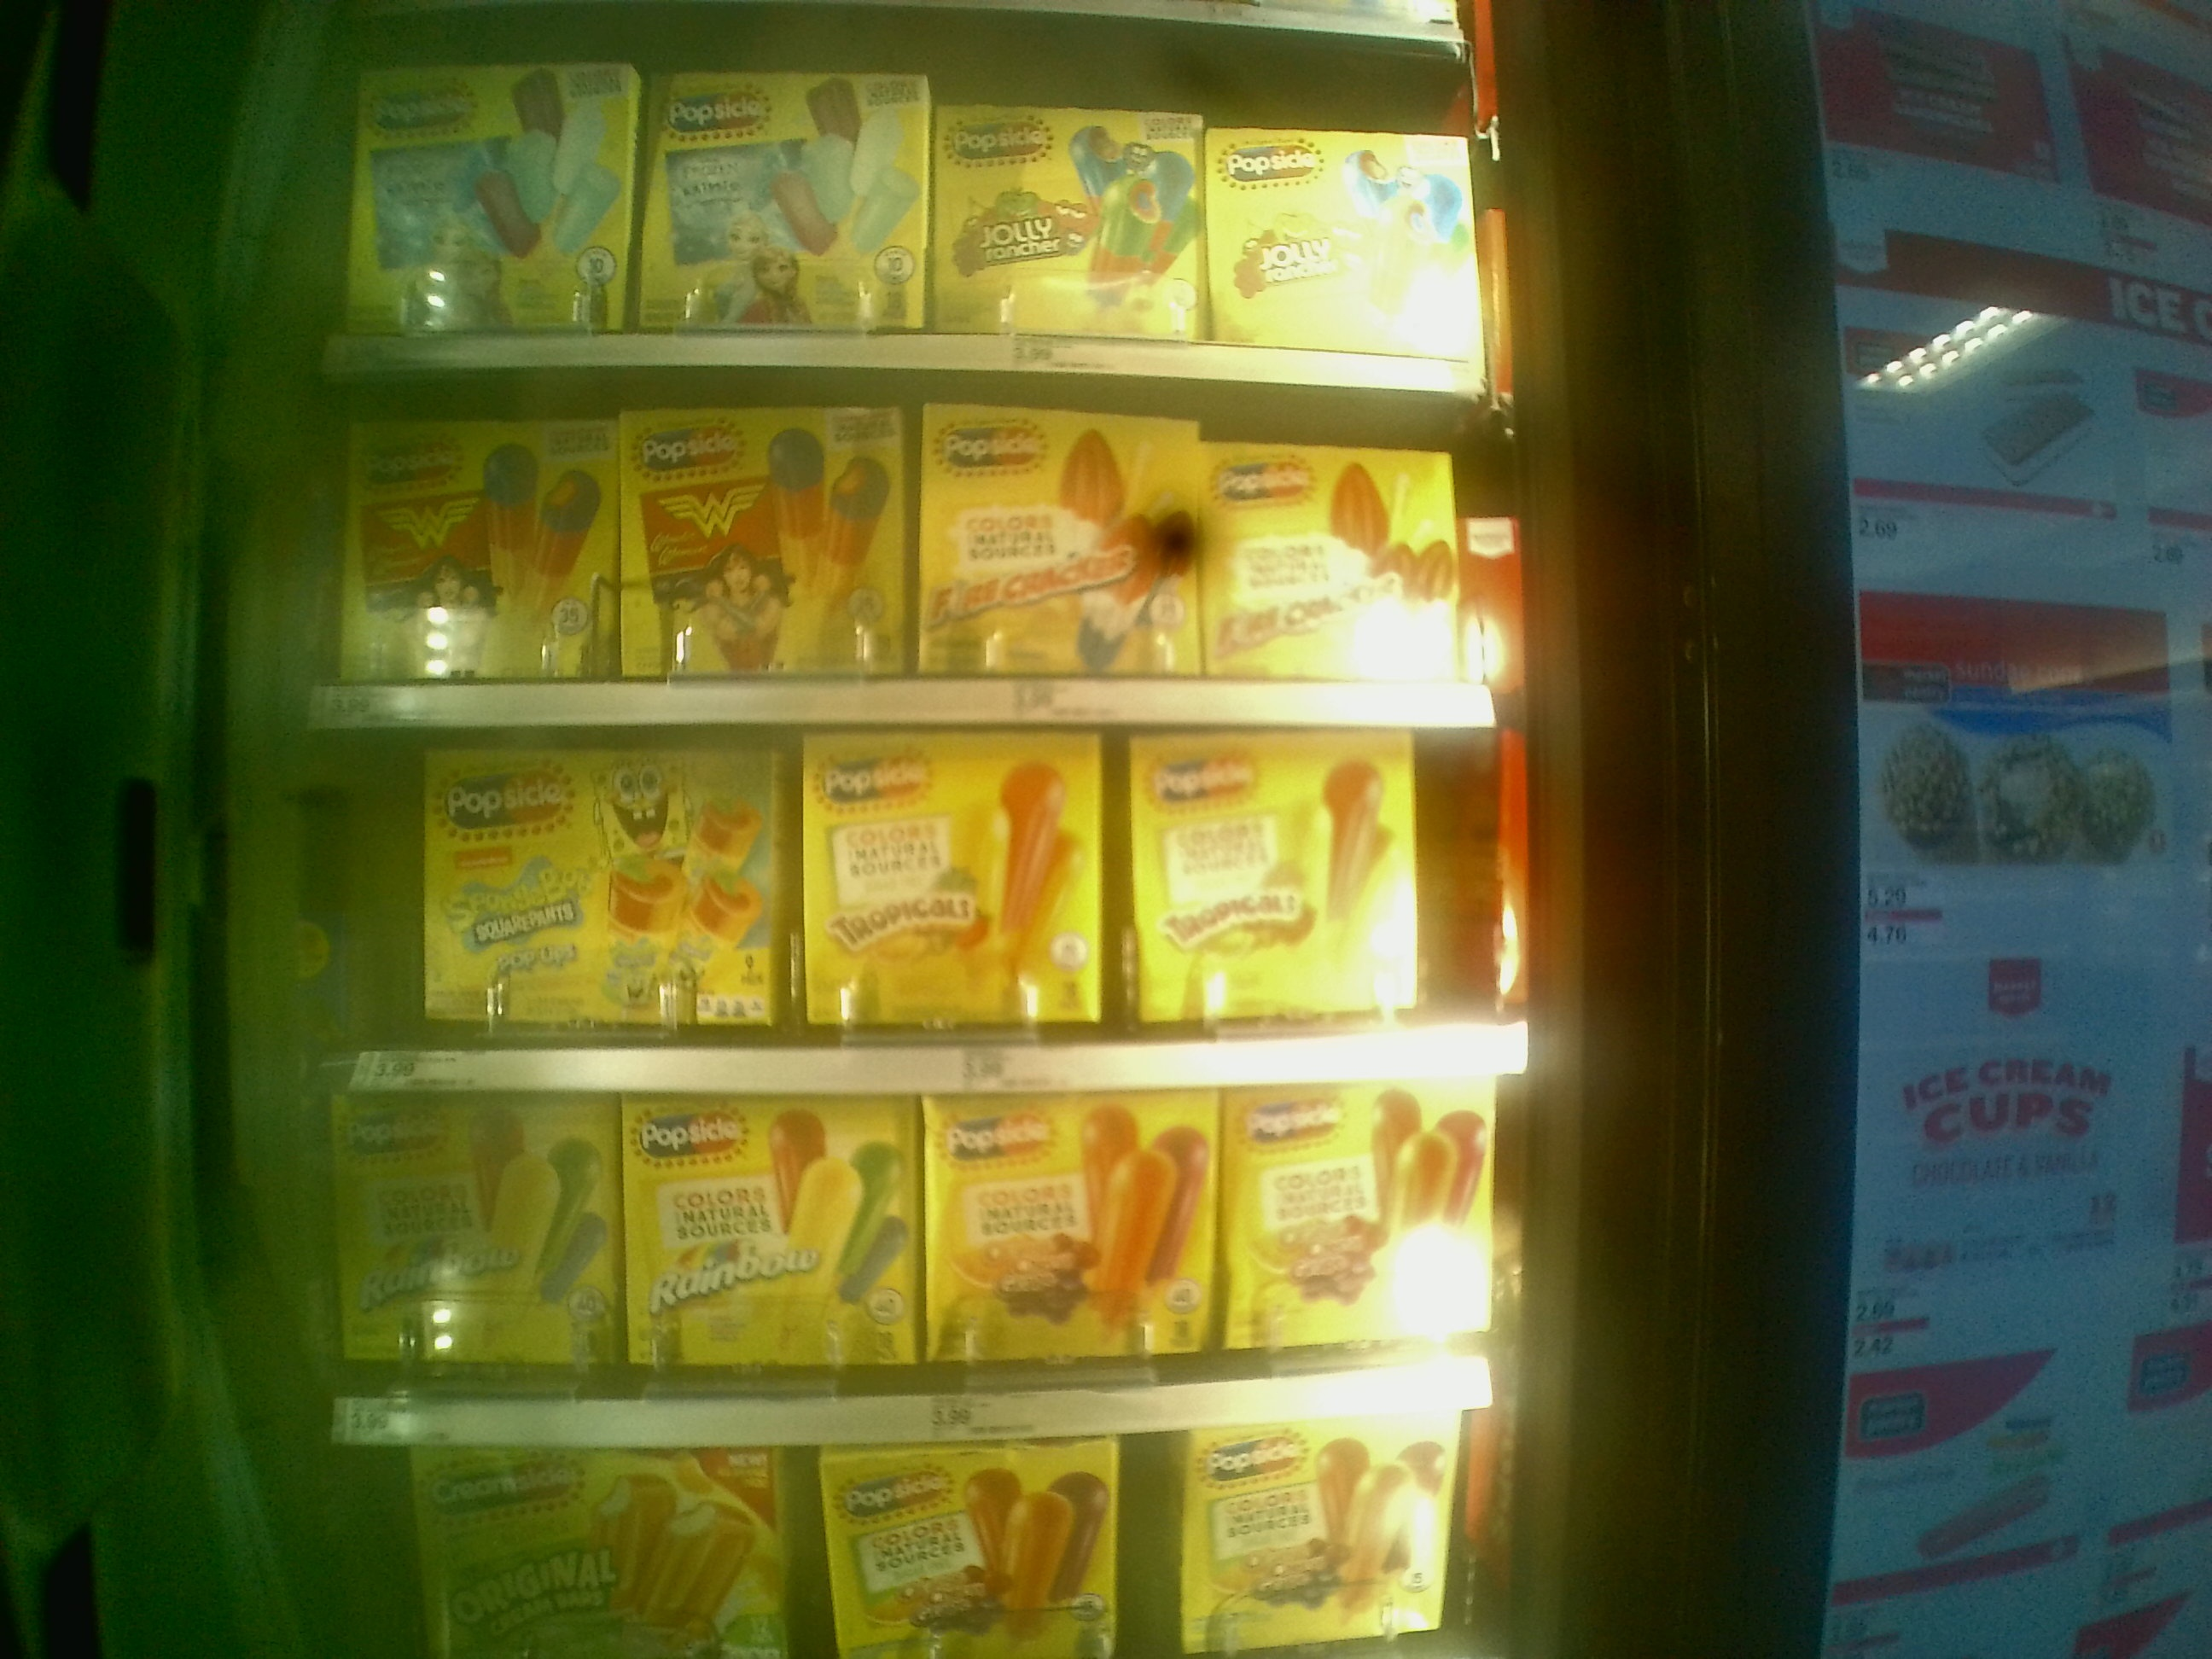frozen-food-shelf: (308, 732, 1538, 1098), (301, 1098, 1538, 1446), (307, 387, 1531, 727)
